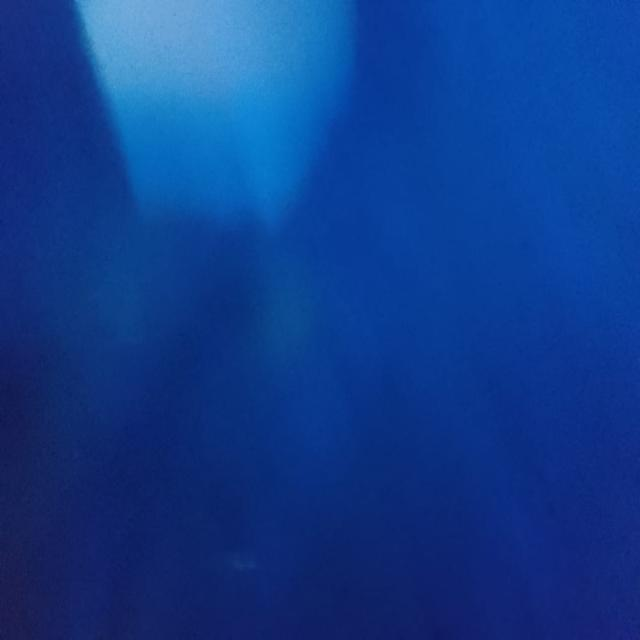thermocoal: (66, 0, 374, 213)
